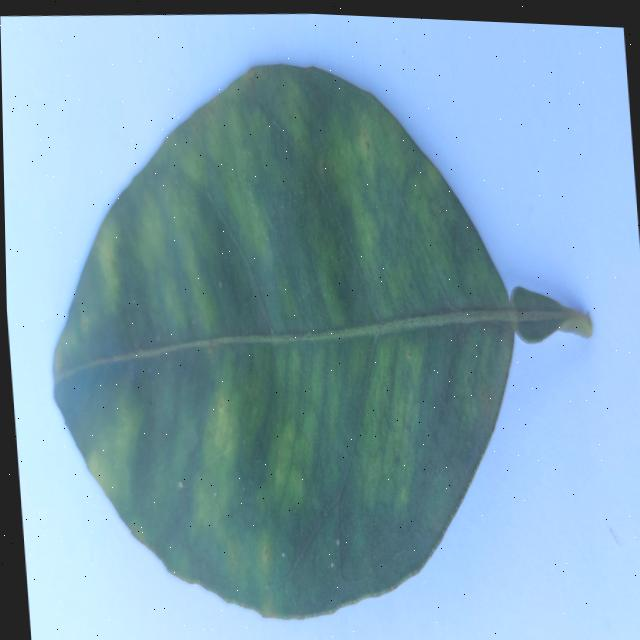greening: (53, 69, 572, 617)
